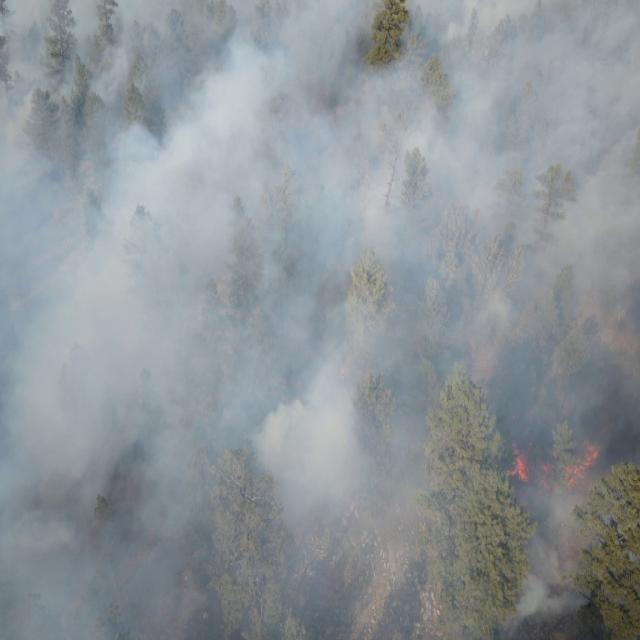fire: (501, 435, 553, 491), (561, 432, 598, 486)
smoke: (0, 0, 640, 640)
